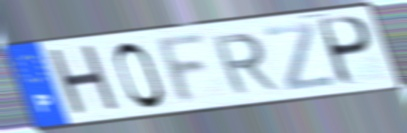0: (112, 39, 167, 111)
F: (154, 29, 212, 108)
H: (44, 42, 126, 121)
P: (318, 14, 376, 89)
R: (209, 30, 282, 97)
Z: (262, 20, 337, 93)
